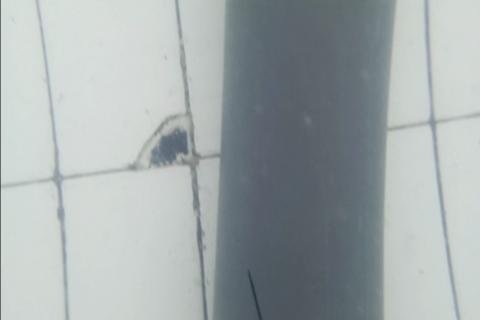keretakan: (245, 265, 263, 320)
